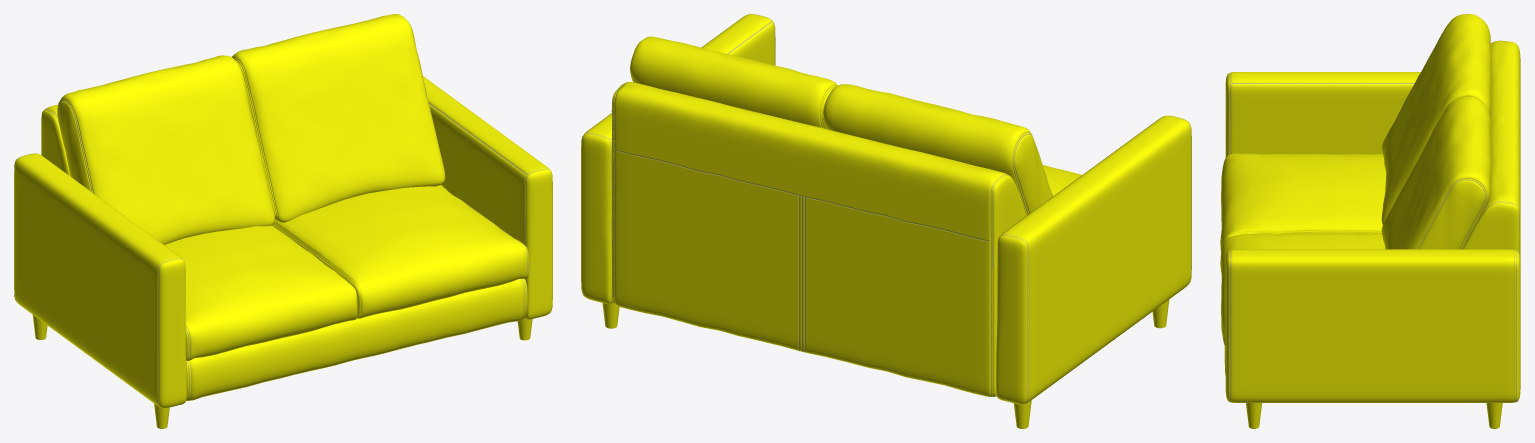
3 renders of one model, left to right at view 1: azimuth 30°, elevation 25°; view 2: azimuth 150°, elevation 25°; view 3: azimuth 270°, elevation 25°, orthographic. The views are drawn at different scales.
Visible parts, largest first — view 1: bodylightgray59, leftarm59, rightarm59, woodleg59; view 2: bodylightgray59, leftarm59, rightarm59, woodleg59; view 3: rightarm59, bodylightgray59, leftarm59, woodleg59.
Boxes of the visible parts, x1,y1,x2,y2 form: bodylightgray59: (41, 14, 529, 400); leftarm59: (14, 153, 186, 408); rightarm59: (423, 76, 552, 319); woodleg59: (32, 315, 532, 428); bodylightgray59: (611, 36, 1081, 396); leftarm59: (996, 115, 1191, 404); rightarm59: (581, 14, 775, 303); woodleg59: (602, 299, 1169, 428); rightarm59: (1225, 249, 1520, 402); bodylightgray59: (1220, 14, 1520, 375); leftarm59: (1225, 72, 1420, 157); woodleg59: (1246, 403, 1502, 428).
Bounding box in the file's own units: 1.4 × 0.8454 × 0.9321.
Materials: 9 (6 with a texture image).
